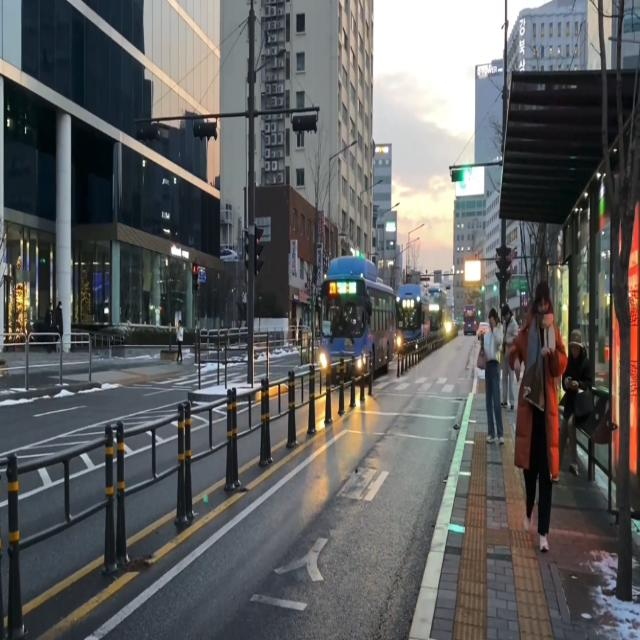bus-number: (402, 299, 414, 308), (329, 282, 336, 295)
